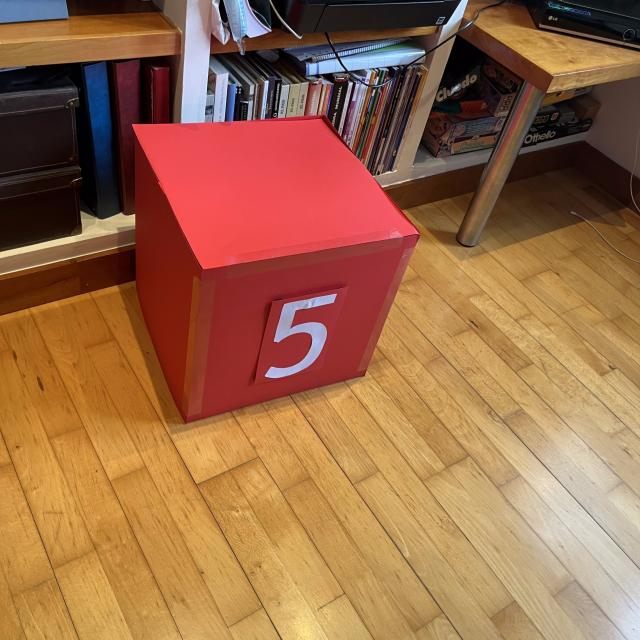box: (128, 111, 422, 424)
